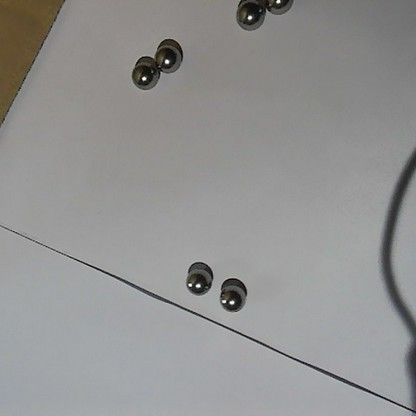ironball: (128, 61, 160, 91), (153, 43, 186, 72), (232, 0, 264, 29), (184, 266, 213, 294), (219, 284, 245, 313), (267, 0, 294, 13)
